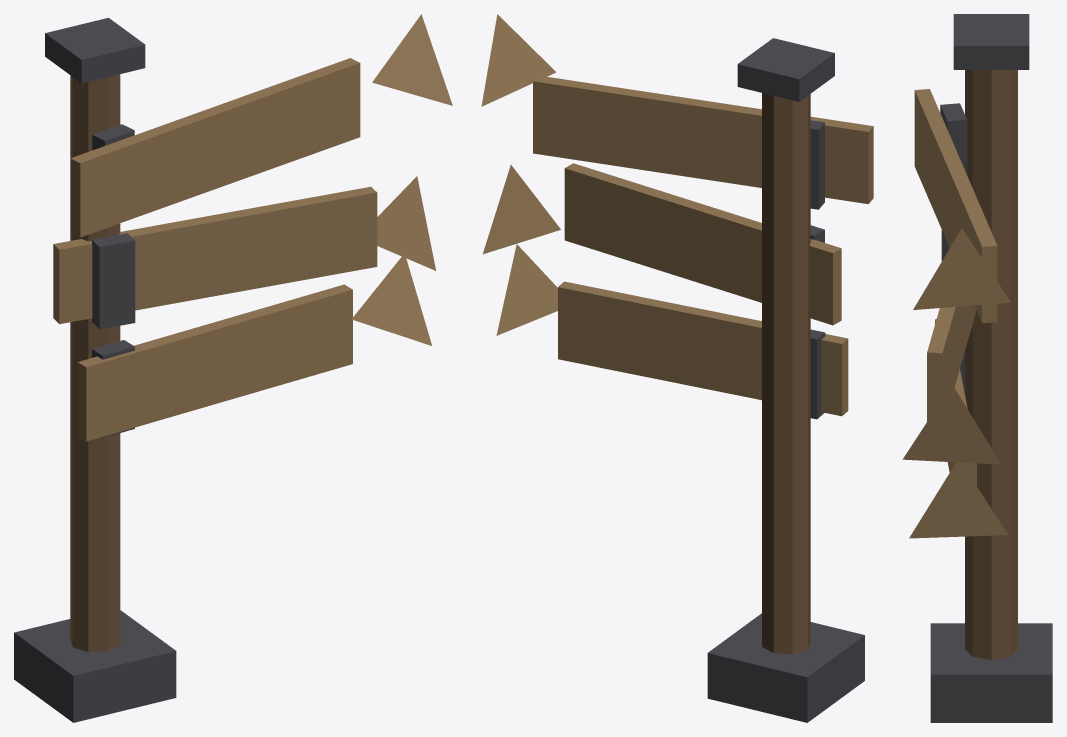
The model's file is road_signpost.glb.
The picture shows the model from 3 angles, left to right: view 1: azimuth 30°, elevation 25°; view 2: azimuth 150°, elevation 25°; view 3: azimuth 270°, elevation 25°; orthographic projection. The views are drawn at different scales.
Visible parts, largest first — view 1: Board0, Board1, Board2, Post, Base, PostCap, Strap1, Cone.002, Cone, Cone.001; view 2: Post, Board0, Board1, Board2, Base, PostCap, Cone.001, Cone, Cone.002, Strap0, Strap2; view 3: Post, Base, Board0, PostCap, Cone.002, Cone.001, Cone, Board1, Strap0, Board2.
Part boxes in pixels (x1,y1,x2,y2): Board0: (70, 58, 360, 237); Board1: (53, 186, 377, 324); Board2: (77, 284, 352, 441); Post: (70, 74, 120, 652); Base: (14, 610, 176, 722); PostCap: (45, 17, 145, 83); Strap1: (92, 233, 135, 329); Cone.002: (351, 256, 431, 345); Cone: (372, 14, 452, 105); Cone.001: (377, 176, 435, 270); Post: (762, 93, 810, 654); Board0: (533, 75, 873, 204); Board1: (564, 163, 841, 325); Board2: (558, 281, 848, 416); Base: (707, 613, 864, 722); PostCap: (737, 38, 834, 101); Cone.001: (483, 165, 560, 254); Cone: (481, 14, 556, 106); Cone.002: (496, 244, 557, 335); Strap0: (810, 120, 824, 209); Strap2: (810, 329, 825, 419); Post: (965, 70, 1017, 660); Base: (930, 623, 1052, 722); Board0: (914, 89, 997, 323); PostCap: (953, 14, 1029, 69); Cone.002: (909, 462, 1007, 538); Cone.001: (902, 384, 1001, 464); Cone: (913, 228, 1010, 309); Board1: (927, 305, 975, 421); Strap0: (940, 103, 967, 174); Board2: (935, 319, 976, 485).
Size of the model in its own units: 2 by 3.32 by 0.6765.
